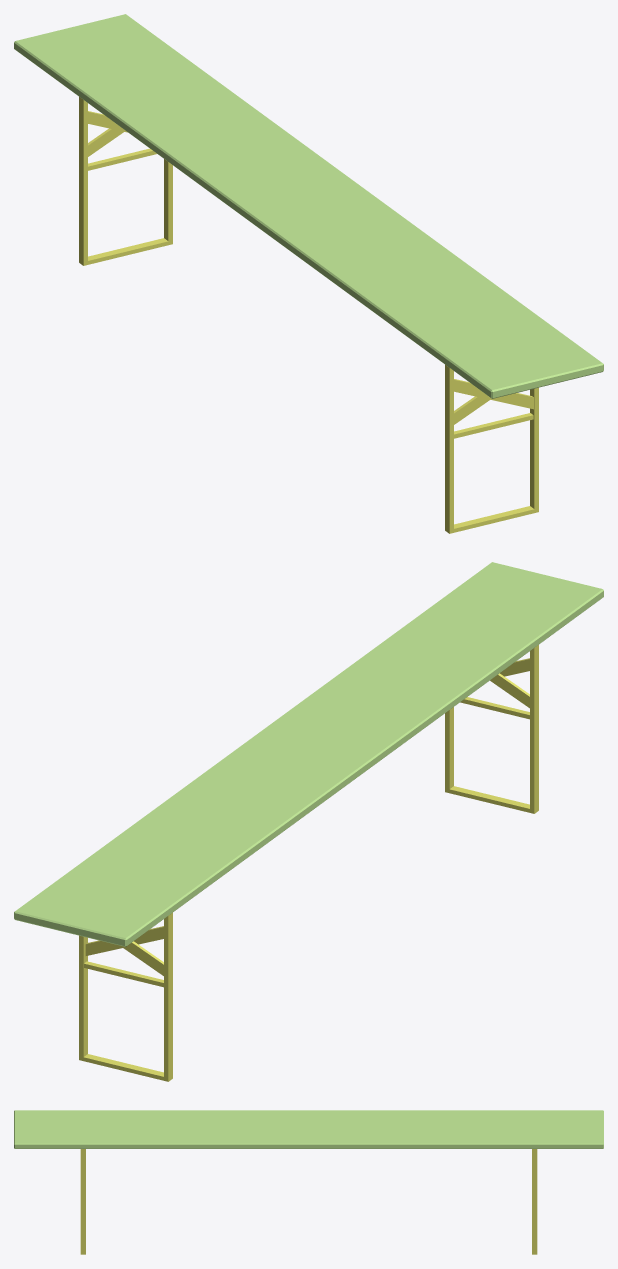
The model's file is beerBankA.fbx.
3 views of the same model, one above another, from view 1: azimuth 30°, elevation 25°; view 2: azimuth 150°, elevation 25°; view 3: azimuth 270°, elevation 25° (orthographic). The views are drawn at different scales.
Visible parts, largest first — view 1: beerBankA; view 2: beerBankA; view 3: beerBankA.
Boxes of the visible parts, x1,y1,x2,y2 form: beerBankA: (14,14,603,533); beerBankA: (14,562,603,1081); beerBankA: (14,1110,603,1254).
Size of the model in its own units: 30 by 47 by 220.
